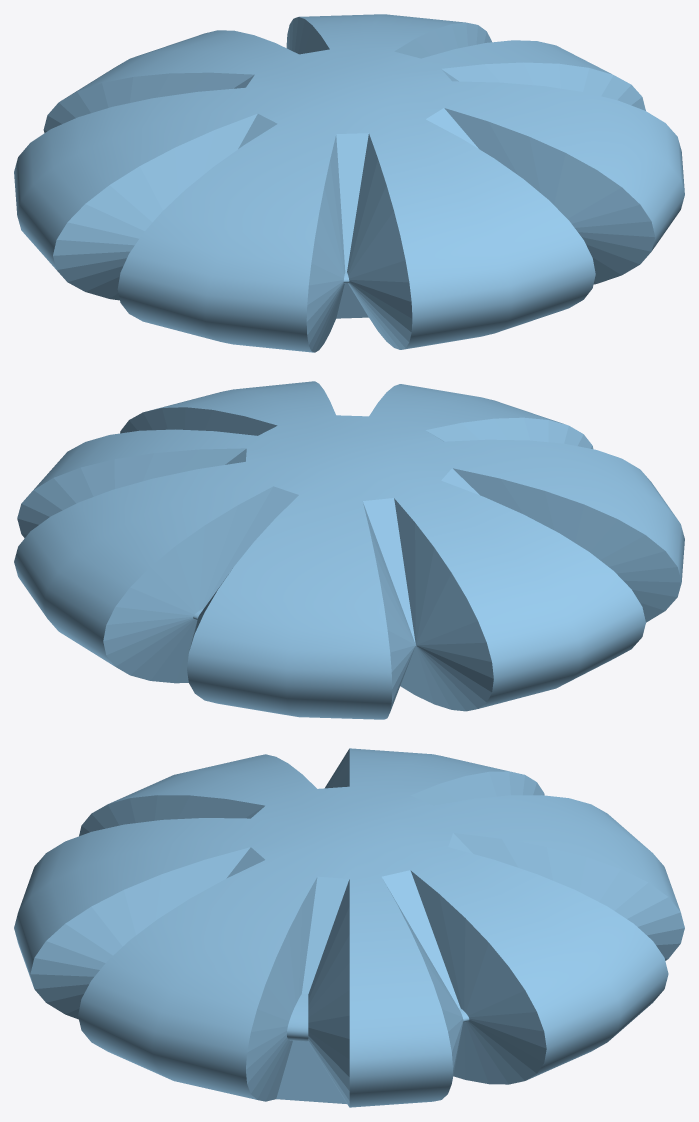
Rendered from corail_dollarsand.fbx.
3 renders of one model, top to bottom at view 1: azimuth 30°, elevation 25°; view 2: azimuth 150°, elevation 25°; view 3: azimuth 270°, elevation 25°, orthographic. The views are drawn at different scales.
Visible parts, largest first — view 1: corail_DOLLARSAND; view 2: corail_DOLLARSAND; view 3: corail_DOLLARSAND.
Boxes of the visible parts, x1=… form: corail_DOLLARSAND: x1=14, y1=14, x2=684, y2=352; corail_DOLLARSAND: x1=14, y1=381, x2=684, y2=719; corail_DOLLARSAND: x1=14, y1=748, x2=684, y2=1107.
Size of the model in its own units: 0.5085 by 0.1589 by 0.4828.
